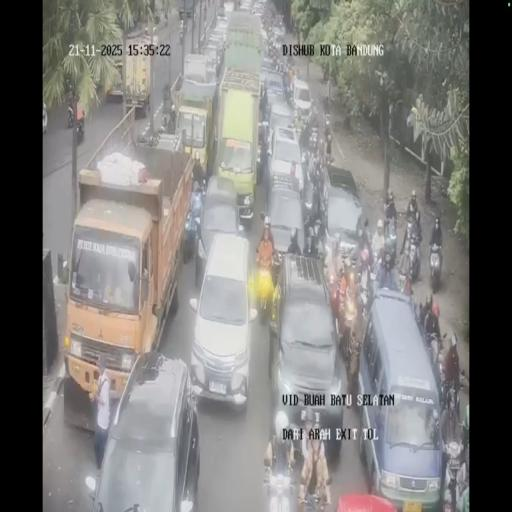car: (356, 288, 444, 504), (86, 352, 200, 509), (270, 256, 344, 455), (196, 174, 243, 284), (320, 170, 363, 262), (263, 186, 305, 262), (268, 100, 294, 142), (291, 76, 313, 122), (263, 68, 285, 105), (202, 41, 223, 77), (214, 14, 230, 44), (271, 26, 286, 51), (260, 54, 278, 74), (259, 28, 269, 57), (251, 0, 265, 18), (222, 0, 235, 16), (239, 0, 253, 14)
motorcycle: (399, 223, 421, 284), (302, 179, 322, 236), (324, 268, 342, 326), (362, 264, 382, 310), (432, 345, 448, 400), (182, 206, 197, 264), (382, 218, 398, 267), (428, 237, 443, 289), (270, 246, 284, 287), (323, 117, 333, 158), (283, 74, 294, 106), (76, 112, 84, 144), (308, 127, 318, 152), (178, 20, 186, 44), (67, 101, 74, 128)
truck: (173, 60, 217, 179), (121, 32, 153, 116), (104, 56, 124, 102), (179, 0, 196, 20)
